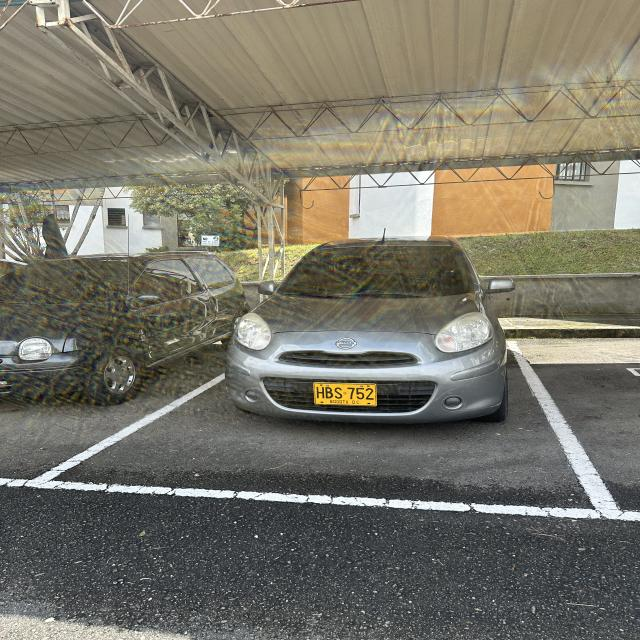number plate: (313, 382, 377, 406)
